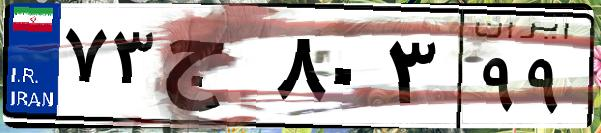0: (330, 28, 385, 110)
3: (385, 28, 445, 110), (110, 28, 158, 98)
7: (57, 26, 110, 100)
8: (270, 28, 330, 110)
9: (475, 38, 525, 113), (525, 38, 570, 115)
ج: (158, 20, 270, 120)
